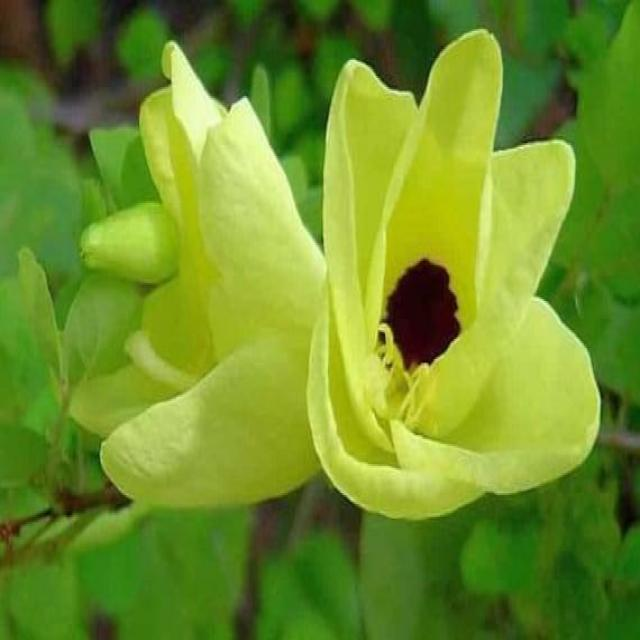organic waste: (317, 43, 601, 503)
